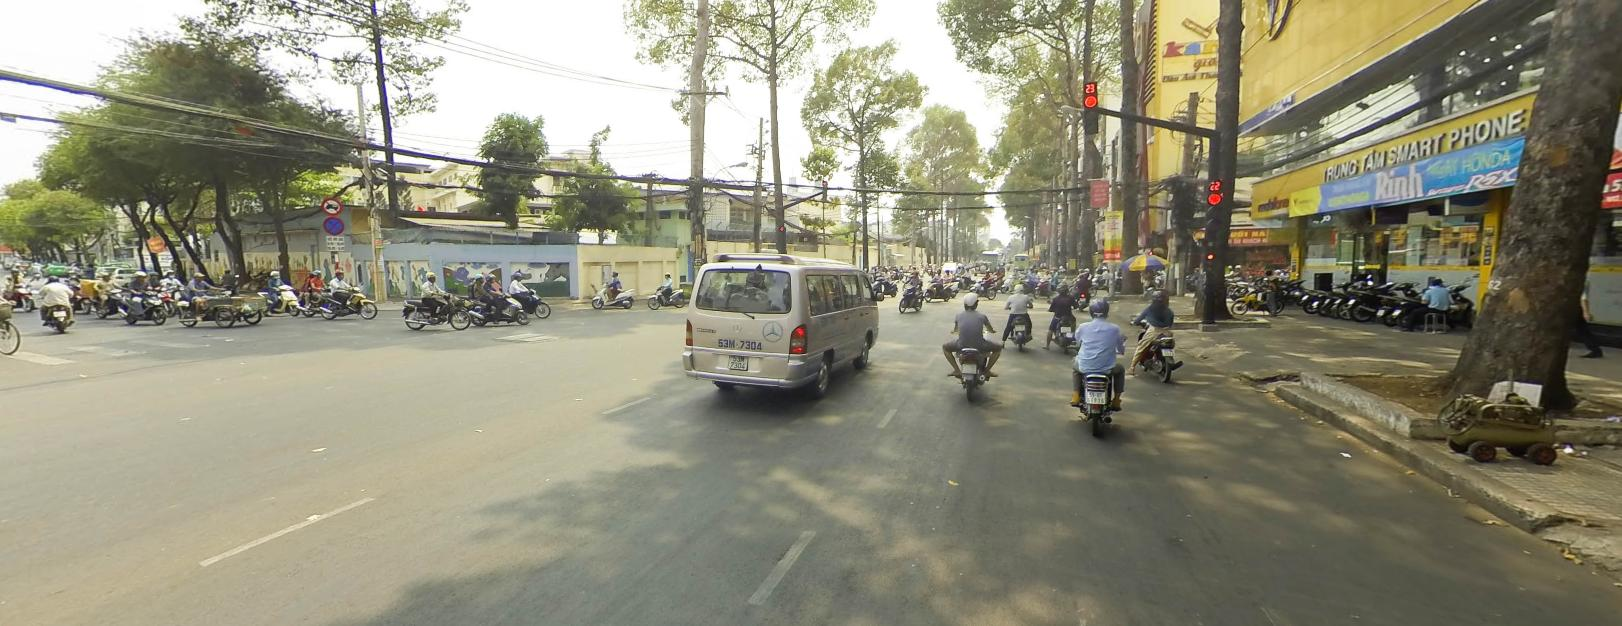Cam con lai: (321, 196, 343, 214)
Cam dung va do: (323, 215, 344, 233)
